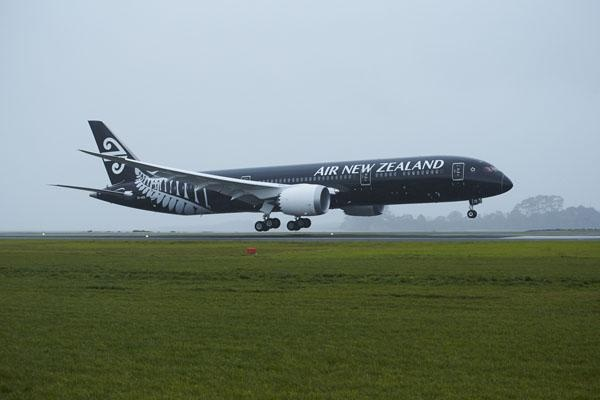airplane: (51, 119, 526, 231)
